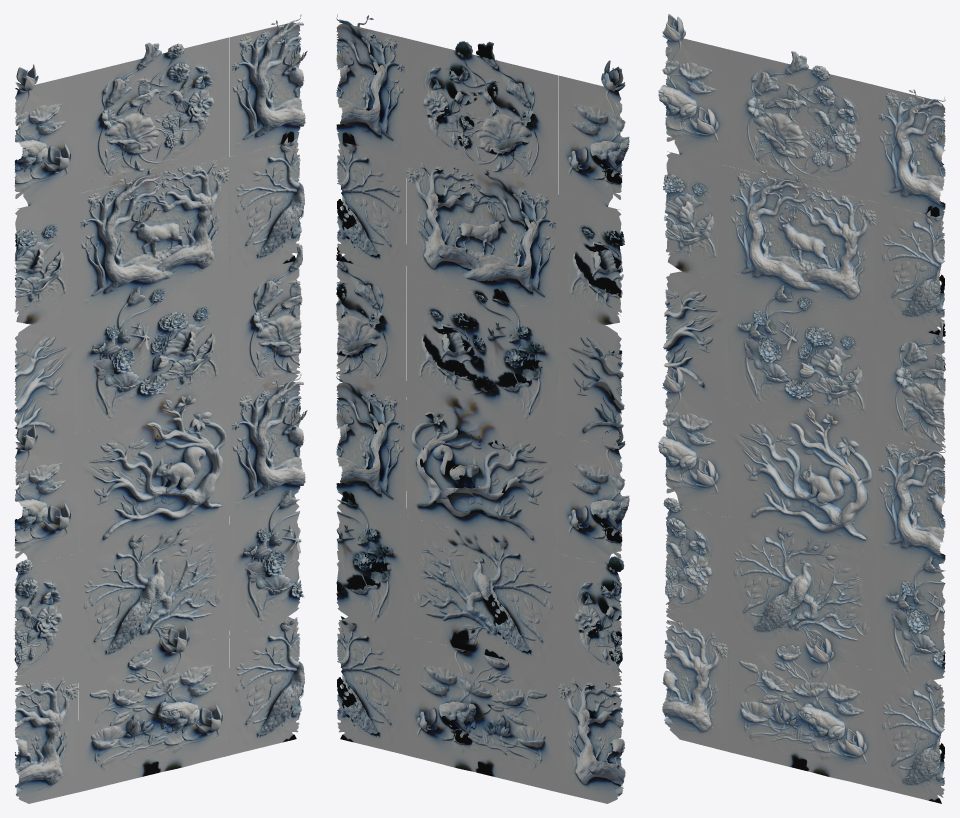
The model's file is bgSM.glb.
The picture shows the model from 3 angles, left to right: view 1: azimuth 30°, elevation 25°; view 2: azimuth 150°, elevation 25°; view 3: azimuth 330°, elevation 25°; orthographic projection. The views are drawn at different scales.
Visible parts, largest first — view 1: deer_01, peacock_01.001, bird_01, dragonflies_01, frog_01, squirrel_01; view 2: deer_01, bird_01, peacock_01.001, dragonflies_01, frog_01, squirrel_01; view 3: deer_01, frog_01, bird_01, dragonflies_01, peacock_01.001, squirrel_01.
Part boxes in pixels (x1=…): deer_01: x1=14, y1=14, x2=307, y2=803; peacock_01.001: x1=78, y1=137, x2=304, y2=755; bird_01: x1=14, y1=37, x2=302, y2=685; dragonflies_01: x1=14, y1=194, x2=304, y2=635; frog_01: x1=14, y1=64, x2=229, y2=792; squirrel_01: x1=14, y1=313, x2=229, y2=552; deer_01: x1=336, y1=14, x2=625, y2=803; bird_01: x1=336, y1=38, x2=624, y2=685; peacock_01.001: x1=337, y1=141, x2=558, y2=755; dragonflies_01: x1=336, y1=195, x2=624, y2=635; frog_01: x1=407, y1=60, x2=629, y2=792; squirrel_01: x1=406, y1=314, x2=624, y2=553; deer_01: x1=662, y1=85, x2=945, y2=751; frog_01: x1=658, y1=14, x2=876, y2=787; bird_01: x1=663, y1=49, x2=945, y2=634; dragonflies_01: x1=663, y1=151, x2=945, y2=685; peacock_01.001: x1=728, y1=202, x2=944, y2=803; squirrel_01: x1=663, y1=271, x2=876, y2=553.
Size of the model in its own units: 25.01 by 62.04 by 1.3.
Materials: 6 (6 with a texture image).
